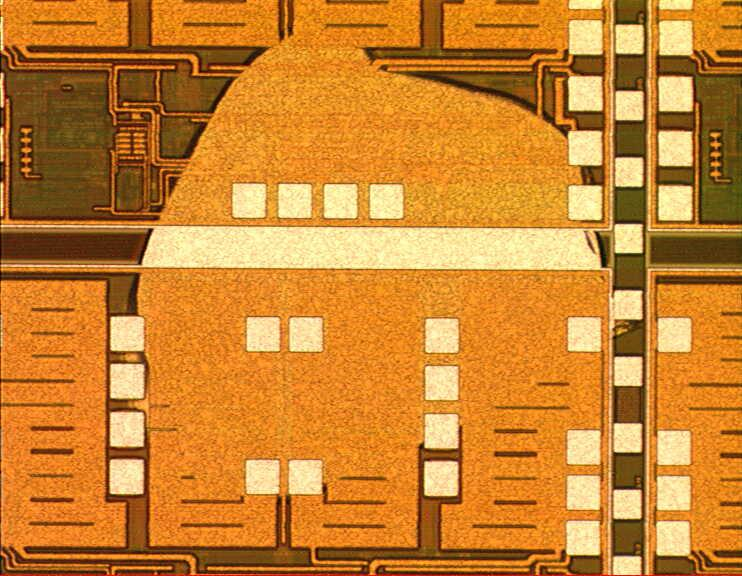BLOCK ETCH: (120, 27, 644, 495)
